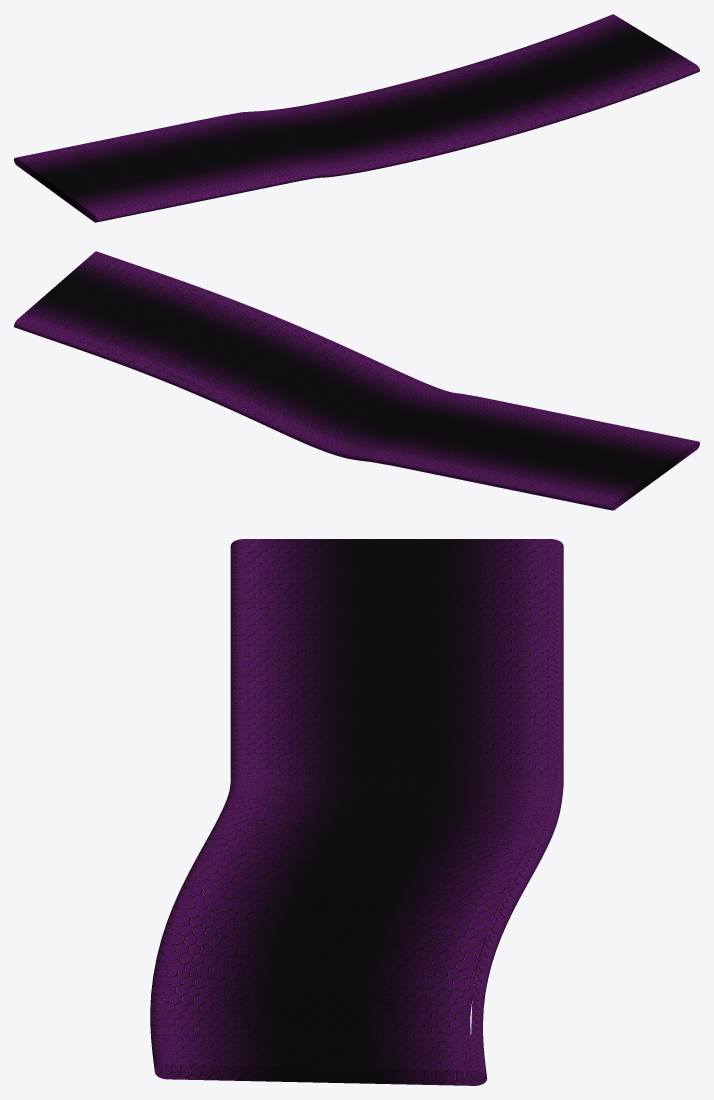
File: test-level-mesh-2df.glb
The picture shows the model from 3 angles, top to bottom: view 1: azimuth 30°, elevation 25°; view 2: azimuth 150°, elevation 25°; view 3: azimuth 270°, elevation 25°; orthographic projection. The views are drawn at different scales.
Parts seen in each view (by area): view 1: test-track-4; view 2: test-track-4; view 3: test-track-4.
Boxes of the visible parts, bbox=[...] form: test-track-4: bbox=[14, 14, 699, 222]; test-track-4: bbox=[14, 251, 699, 510]; test-track-4: bbox=[150, 539, 563, 1085].
Size of the model in its own units: 33.84 by 2.37 by 10.37.
2 materials, 2 textured.
